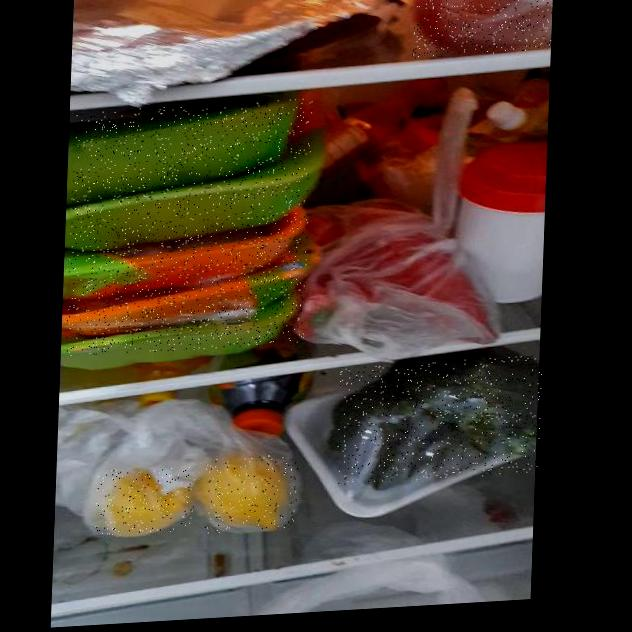broccoli: (336, 355, 543, 485)
chicken: (66, 98, 313, 357)
lemon: (203, 453, 299, 534), (95, 465, 195, 536)
tomato: (412, 0, 556, 58)
